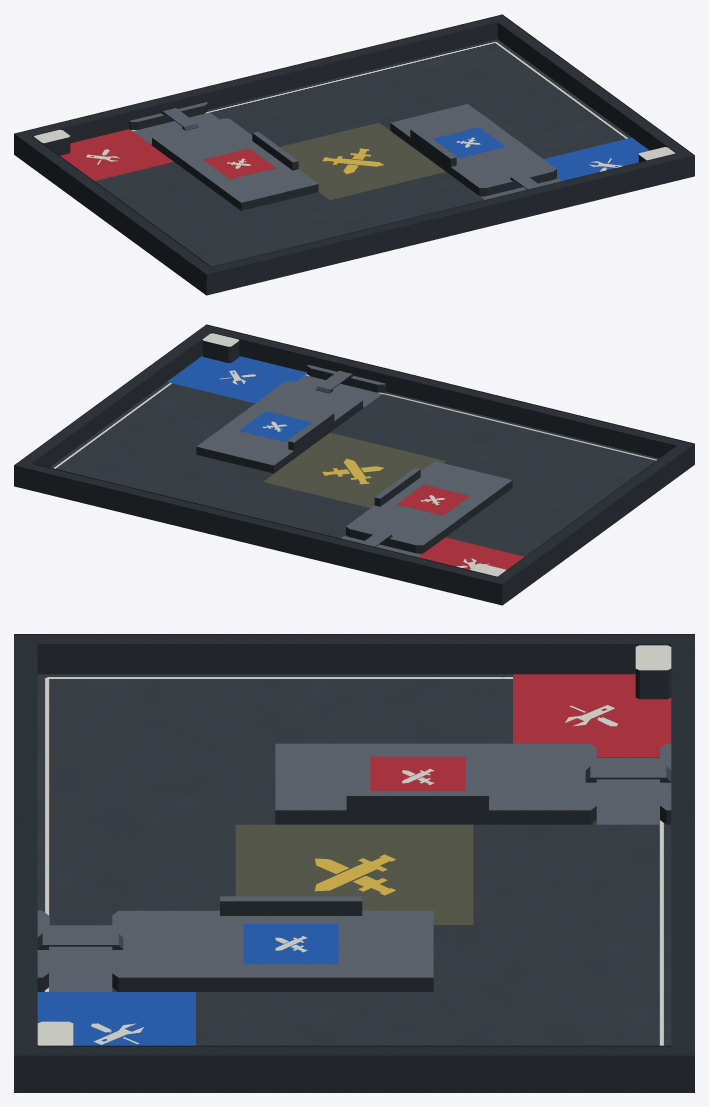
The model's file is rmul_2027_visual.dae.
3 renders of one model, top to bottom at view 1: azimuth 30°, elevation 25°; view 2: azimuth 150°, elevation 25°; view 3: azimuth 270°, elevation 25°, orthographic. The views are drawn at different scales.
Parts seen in each view (by area): view 1: pvc_floor, panel_graphite, pvc_platform, pvc_control, pvc_red, pvc_blue, paint_white, paint_yellow; view 2: pvc_floor, panel_graphite, pvc_platform, pvc_control, pvc_blue, pvc_red, paint_white, paint_yellow; view 3: pvc_floor, panel_graphite, pvc_platform, pvc_control, pvc_red, pvc_blue, paint_white, paint_yellow, base_dark.
Boxes of the visible parts, bbox=[...] form: pvc_floor: bbox=[95, 39, 631, 266]; panel_graphite: bbox=[14, 14, 694, 295]; pvc_platform: bbox=[130, 102, 561, 202]; pvc_control: bbox=[280, 123, 445, 199]; pvc_red: bbox=[60, 129, 275, 180]; pvc_blue: bbox=[433, 127, 649, 180]; paint_white: bbox=[34, 129, 675, 171]; paint_yellow: bbox=[322, 148, 383, 174]; pvc_floor: bbox=[50, 374, 658, 556]; panel_graphite: bbox=[14, 324, 694, 605]; pvc_platform: bbox=[197, 365, 511, 557]; pvc_control: bbox=[263, 433, 445, 507]; pvc_blue: bbox=[167, 356, 311, 441]; pvc_red: bbox=[397, 484, 524, 570]; paint_white: bbox=[202, 333, 505, 576]; paint_yellow: bbox=[322, 458, 383, 484]; pvc_floor: bbox=[37, 674, 671, 1045]; panel_graphite: bbox=[14, 634, 694, 1092]; pvc_platform: bbox=[37, 743, 671, 991]; pvc_control: bbox=[235, 824, 473, 924]; pvc_red: bbox=[370, 674, 671, 790]; pvc_blue: bbox=[37, 924, 338, 1045]; paint_white: bbox=[37, 645, 671, 1045]; paint_yellow: bbox=[314, 854, 395, 895]; base_dark: bbox=[44, 674, 669, 990].
Size of the model in its own units: 12.6 by 8.6 by 0.52.
10 materials, 10 textured.
